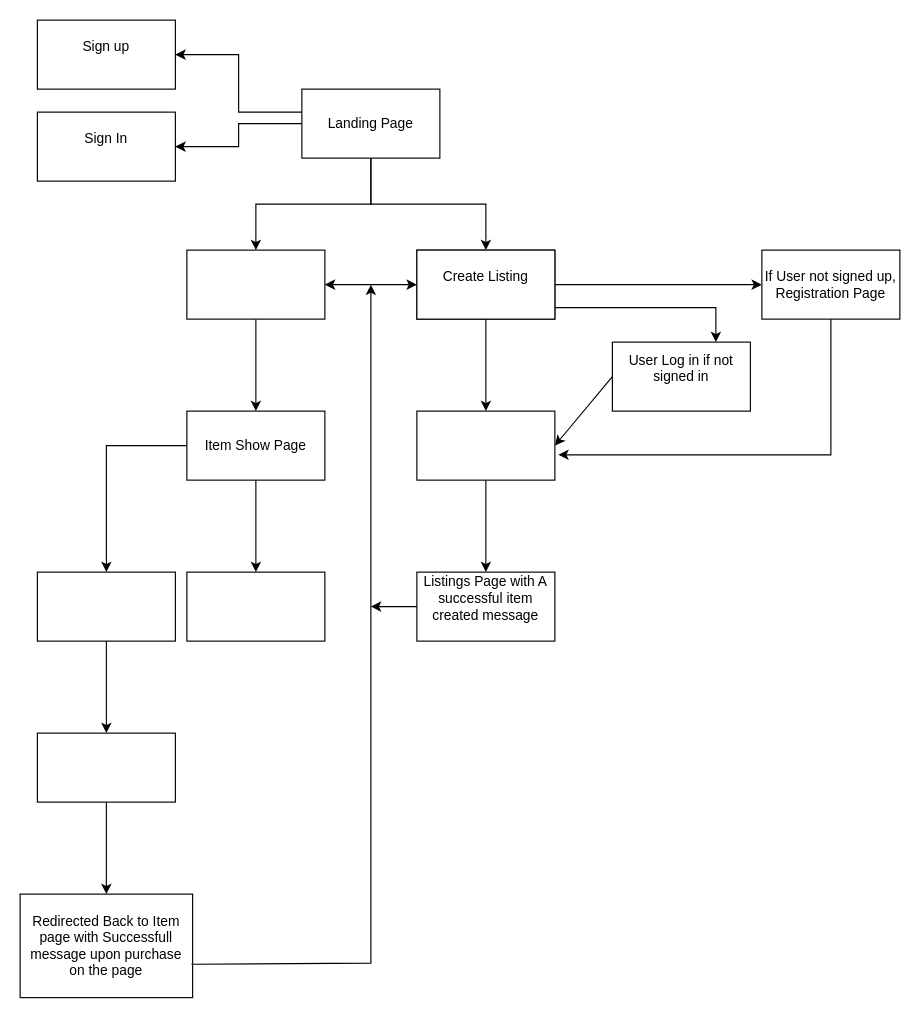
This 920x1018 diagram has some shape labels left out. Here are the shapes that lost their labels. From the top down, the centre of each, then its label:
the point at 255,284: Browse Listings
the point at 485,445: Create Listings Page
the point at 105,606: Buy Item only available if Signed in
the point at 255,606: View Sellers Profile only available if signed in
the point at 105,767: Redirects to Stripe Payment System
